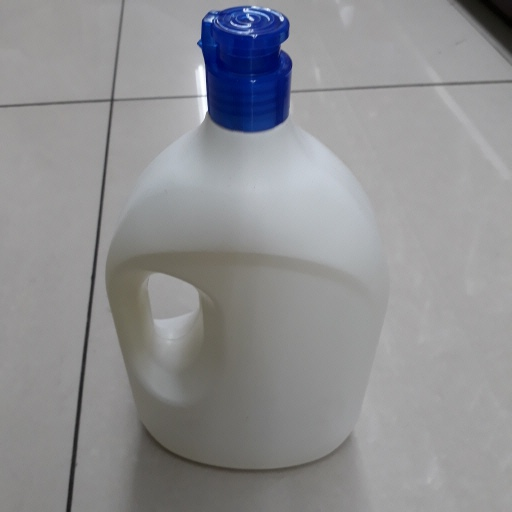Plastic_1: (103, 6, 394, 471)
